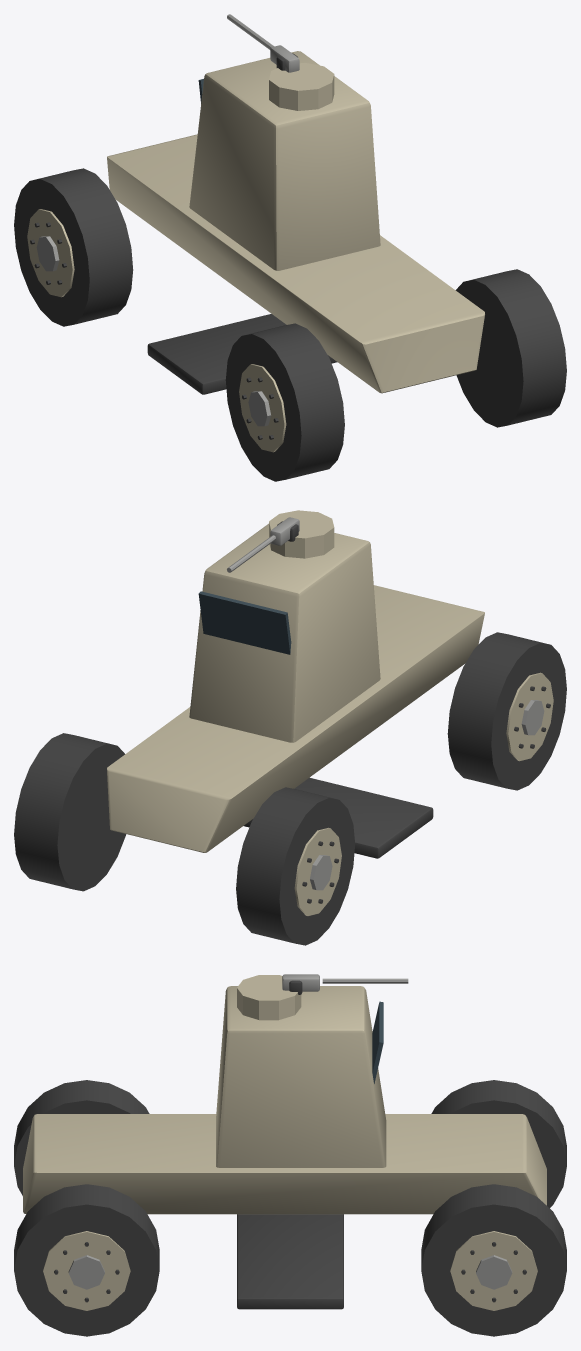
The model's file is usa_eng_husky.glb.
3 renders of one model, top to bottom at view 1: azimuth 30°, elevation 25°; view 2: azimuth 150°, elevation 25°; view 3: azimuth 270°, elevation 25°, orthographic. The views are drawn at different scales.
Visible parts, largest first — view 1: body, wheel_2, wheel_0, wheel_3, turret, barrel; view 2: body, wheel_2, wheel_0, wheel_1, turret, barrel; view 3: body, wheel_1, wheel_3, wheel_0, wheel_2, turret, barrel.
Boxes of the visible parts, box(x1,y1,x2,y2) form: body: box(107, 51, 484, 394); wheel_2: box(225, 323, 344, 481); wheel_0: box(14, 168, 133, 326); wheel_3: box(455, 269, 566, 427); turret: box(269, 63, 334, 110); barrel: box(227, 14, 299, 72); body: box(107, 523, 484, 858); wheel_2: box(447, 632, 566, 790); wheel_0: box(236, 787, 355, 945); wheel_1: box(14, 733, 126, 891); turret: box(269, 510, 334, 558); barrel: box(227, 517, 299, 572); body: box(23, 986, 546, 1309); wheel_1: box(421, 1184, 566, 1336); wheel_3: box(14, 1184, 159, 1336); wheel_0: box(431, 1080, 566, 1207); wheel_2: box(14, 1080, 149, 1195); turret: box(237, 975, 301, 1020); barrel: box(282, 974, 408, 994).
Size of the model in its own units: 2.87 by 3.07 by 5.16.
